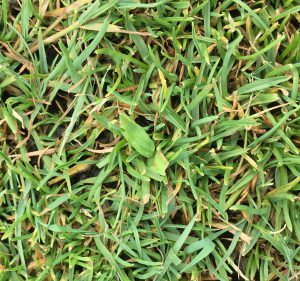crabgrass: (41, 40, 269, 254)
